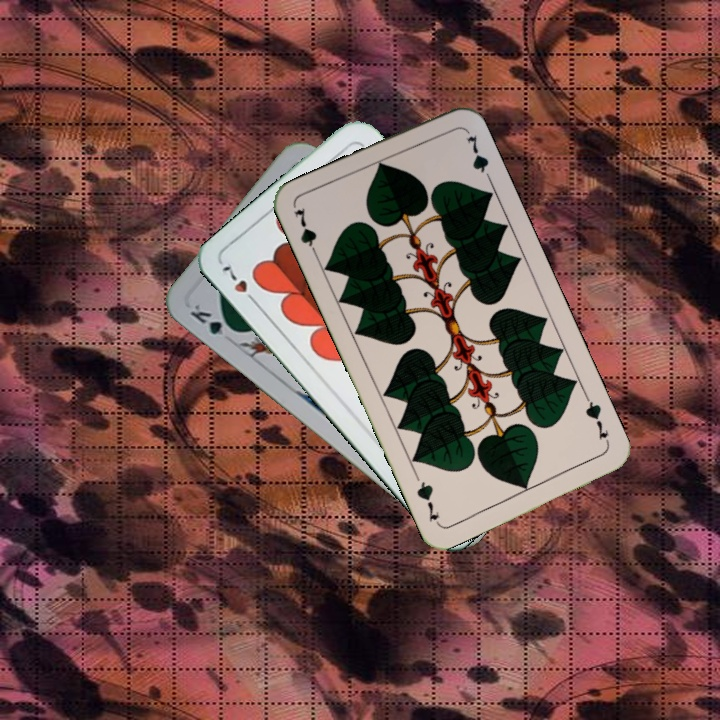G7: (290, 203, 322, 261), (581, 392, 611, 443)
GK: (185, 299, 240, 339)
H7: (217, 259, 261, 309)
